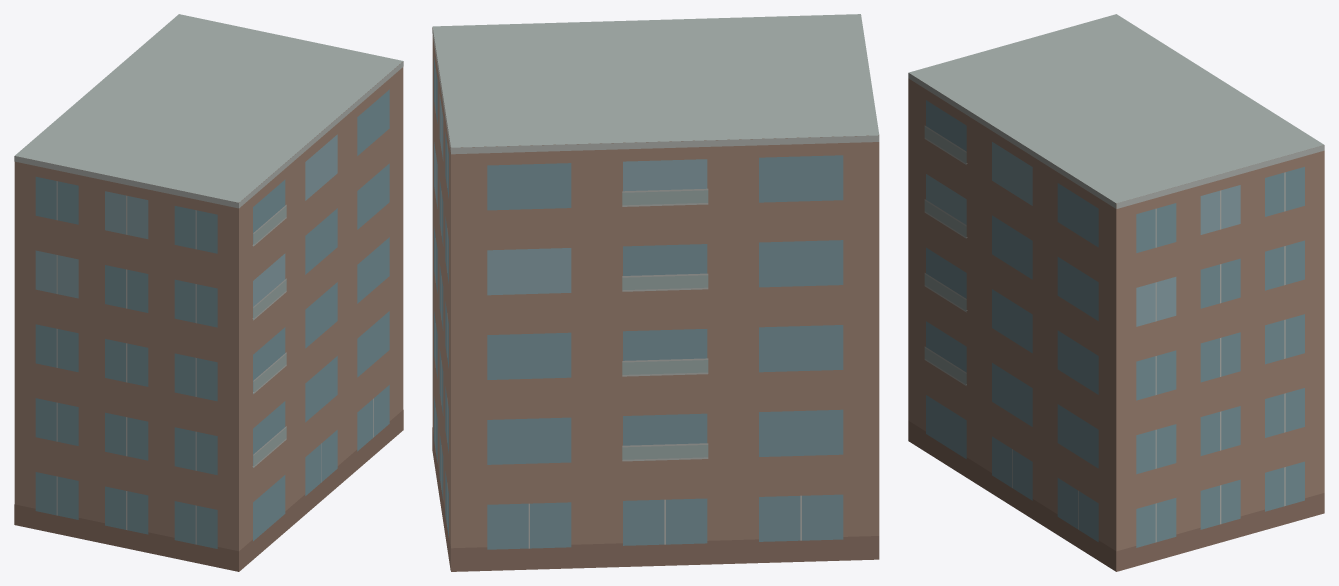
Rendered from survey-upis-32890090.glb.
The picture shows the model from 3 angles, left to right: view 1: azimuth 30°, elevation 25°; view 2: azimuth 150°, elevation 25°; view 3: azimuth 270°, elevation 25°; orthographic projection. The views are drawn at different scales.
Parts seen in each view (by area): view 1: survey-upis-32890090.tmp; view 2: survey-upis-32890090.tmp; view 3: survey-upis-32890090.tmp.
Part boxes in pixels (box(x1,y1,x2,y2)): survey-upis-32890090.tmp: box(14, 14, 403, 571); survey-upis-32890090.tmp: box(432, 14, 879, 571); survey-upis-32890090.tmp: box(908, 14, 1324, 571).
Bounding box in the file's own units: 17.43 × 15.8 × 16.18.
